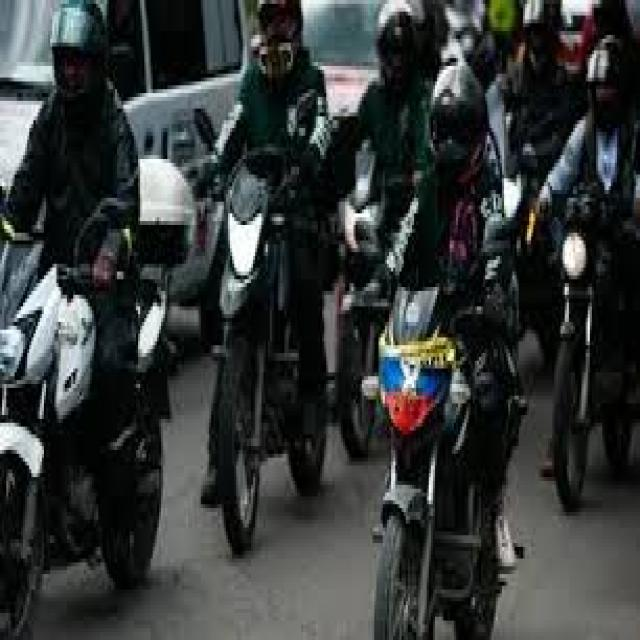MOTORCYCLE: (0, 235, 174, 578), (353, 271, 501, 640), (216, 151, 324, 547), (546, 198, 634, 519)
